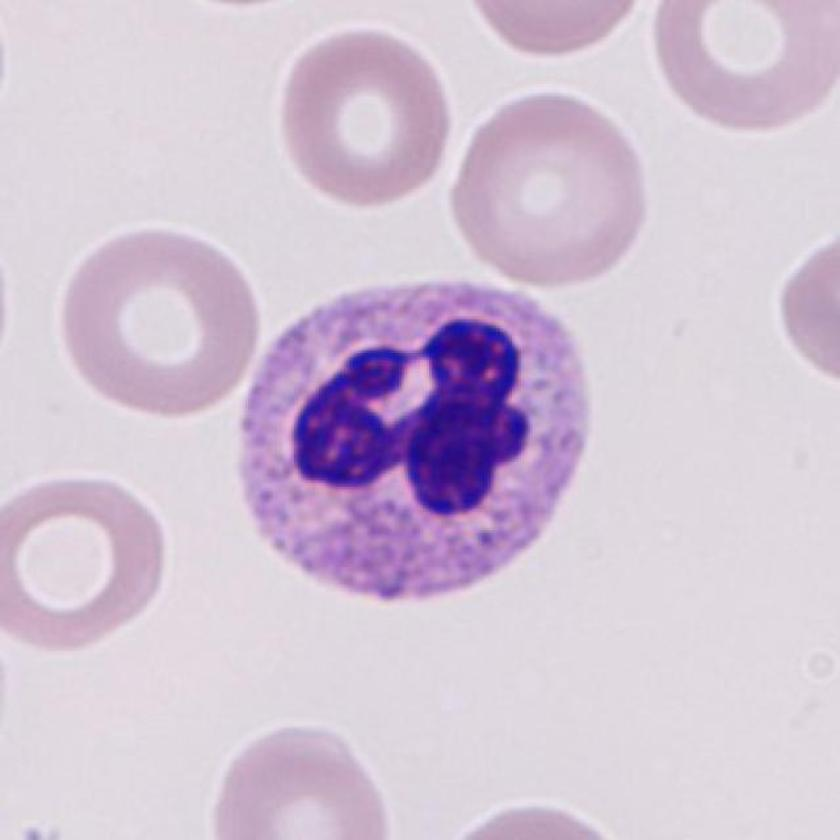neutrophil: (240, 279, 595, 598)
